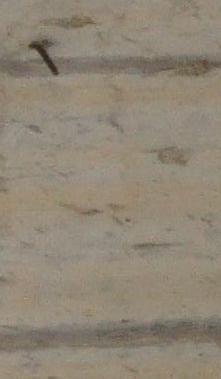Exposed reinforcement: (34, 44, 61, 77)
